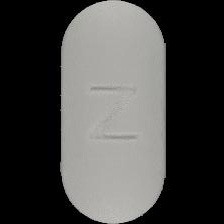21695-905: (0, 0, 224, 224)
